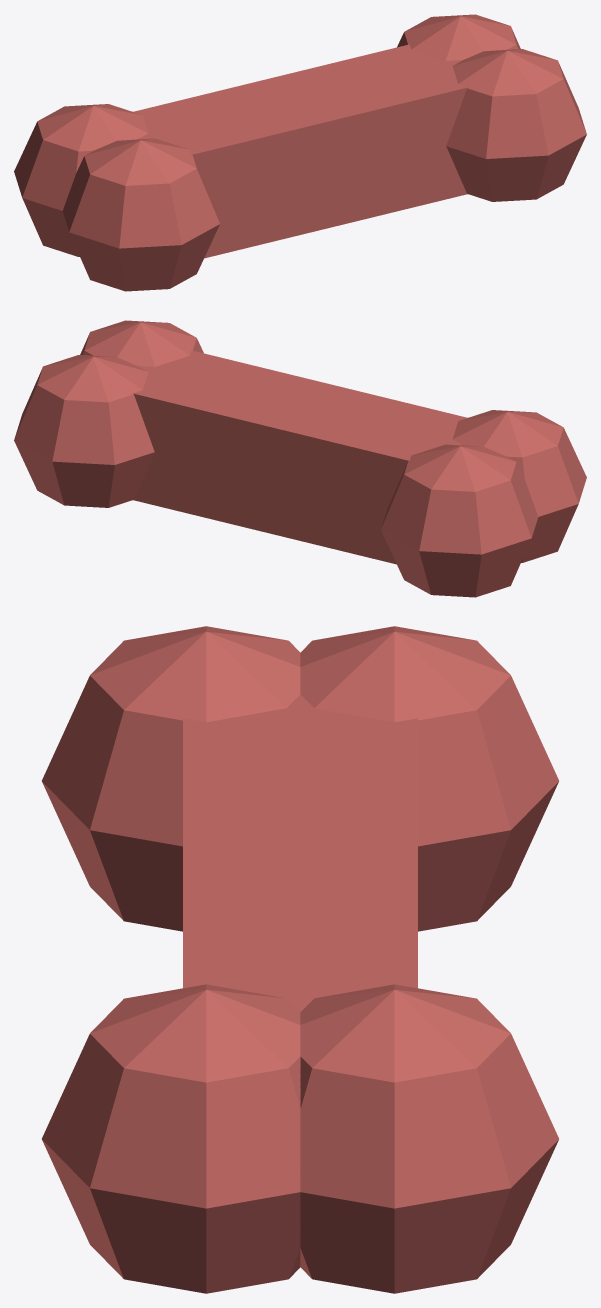
The model's file is pets_brinquedo.glb.
3 renders of one model, top to bottom at view 1: azimuth 30°, elevation 25°; view 2: azimuth 150°, elevation 25°; view 3: azimuth 270°, elevation 25°, orthographic. The views are drawn at different scales.
Parts seen in each view (by area): view 1: PETS_BRINQUEDO_v01; view 2: PETS_BRINQUEDO_v01; view 3: PETS_BRINQUEDO_v01.
Part boxes in pixels (bbox=[...]): PETS_BRINQUEDO_v01: bbox=[14, 14, 586, 291]; PETS_BRINQUEDO_v01: bbox=[14, 320, 586, 597]; PETS_BRINQUEDO_v01: bbox=[42, 626, 558, 1293].
Size of the model in its own units: 0.25 by 0.07 by 0.11.
